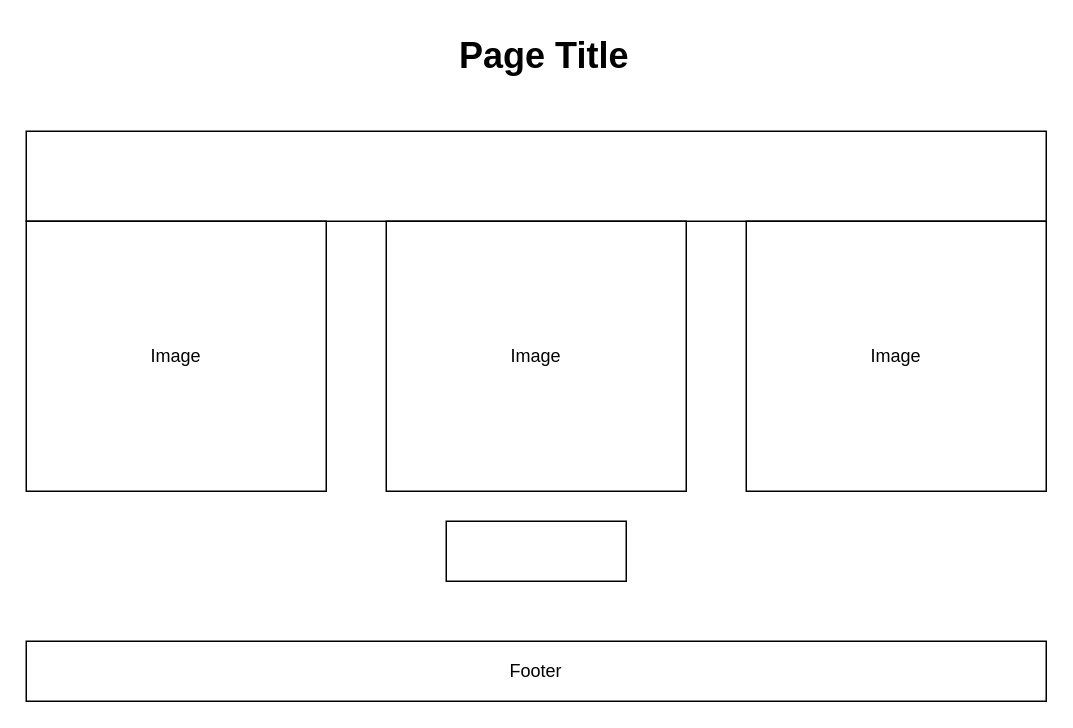
The diagram is 1073 pixels wide and 728 high, and some of its shapes have lost their labels. Each missing label, with the centre of its shape:
Button: point (535, 550)
Description: point (535, 175)
